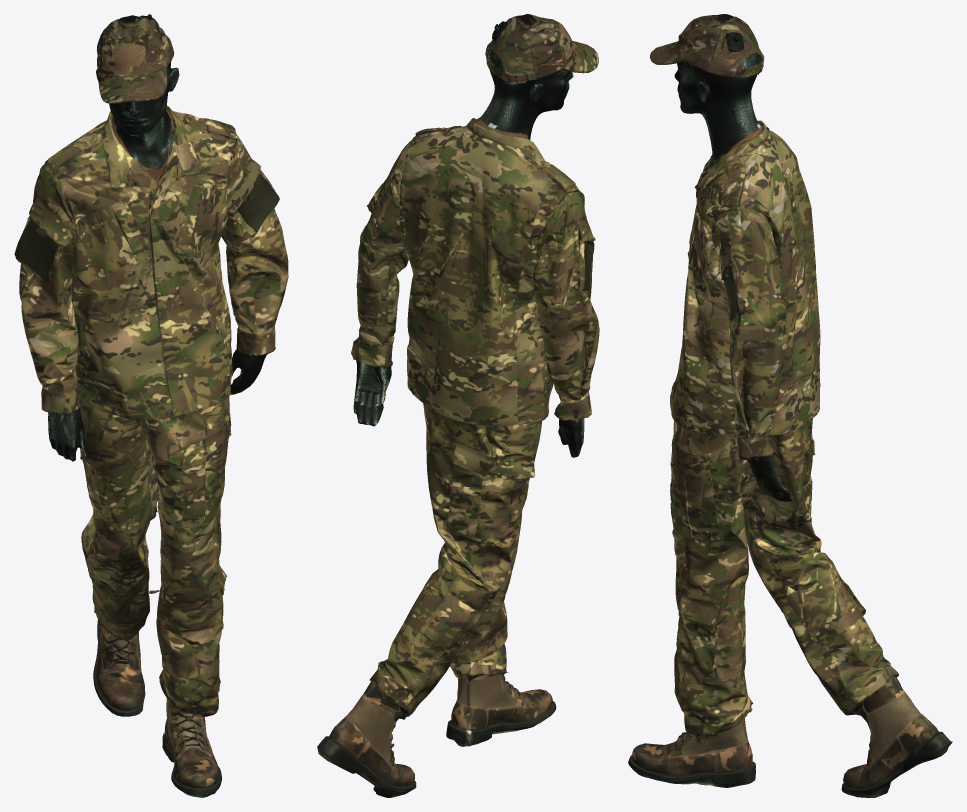
Rendered from MilitaryDude.fbx.
The picture shows the model from 3 angles, left to right: view 1: azimuth 30°, elevation 25°; view 2: azimuth 150°, elevation 25°; view 3: azimuth 270°, elevation 25°; orthographic projection. The views are drawn at different scales.
Parts seen in each view (by area): view 1: Voenni 4el; view 2: Voenni 4el; view 3: Voenni 4el.
Part boxes in pixels (x1=…): Voenni 4el: x1=14, y1=14, x2=288, y2=797; Voenni 4el: x1=317, y1=14, x2=599, y2=797; Voenni 4el: x1=628, y1=14, x2=952, y2=797.
Size of the model in its own units: 63.89 by 182 by 72.03.
